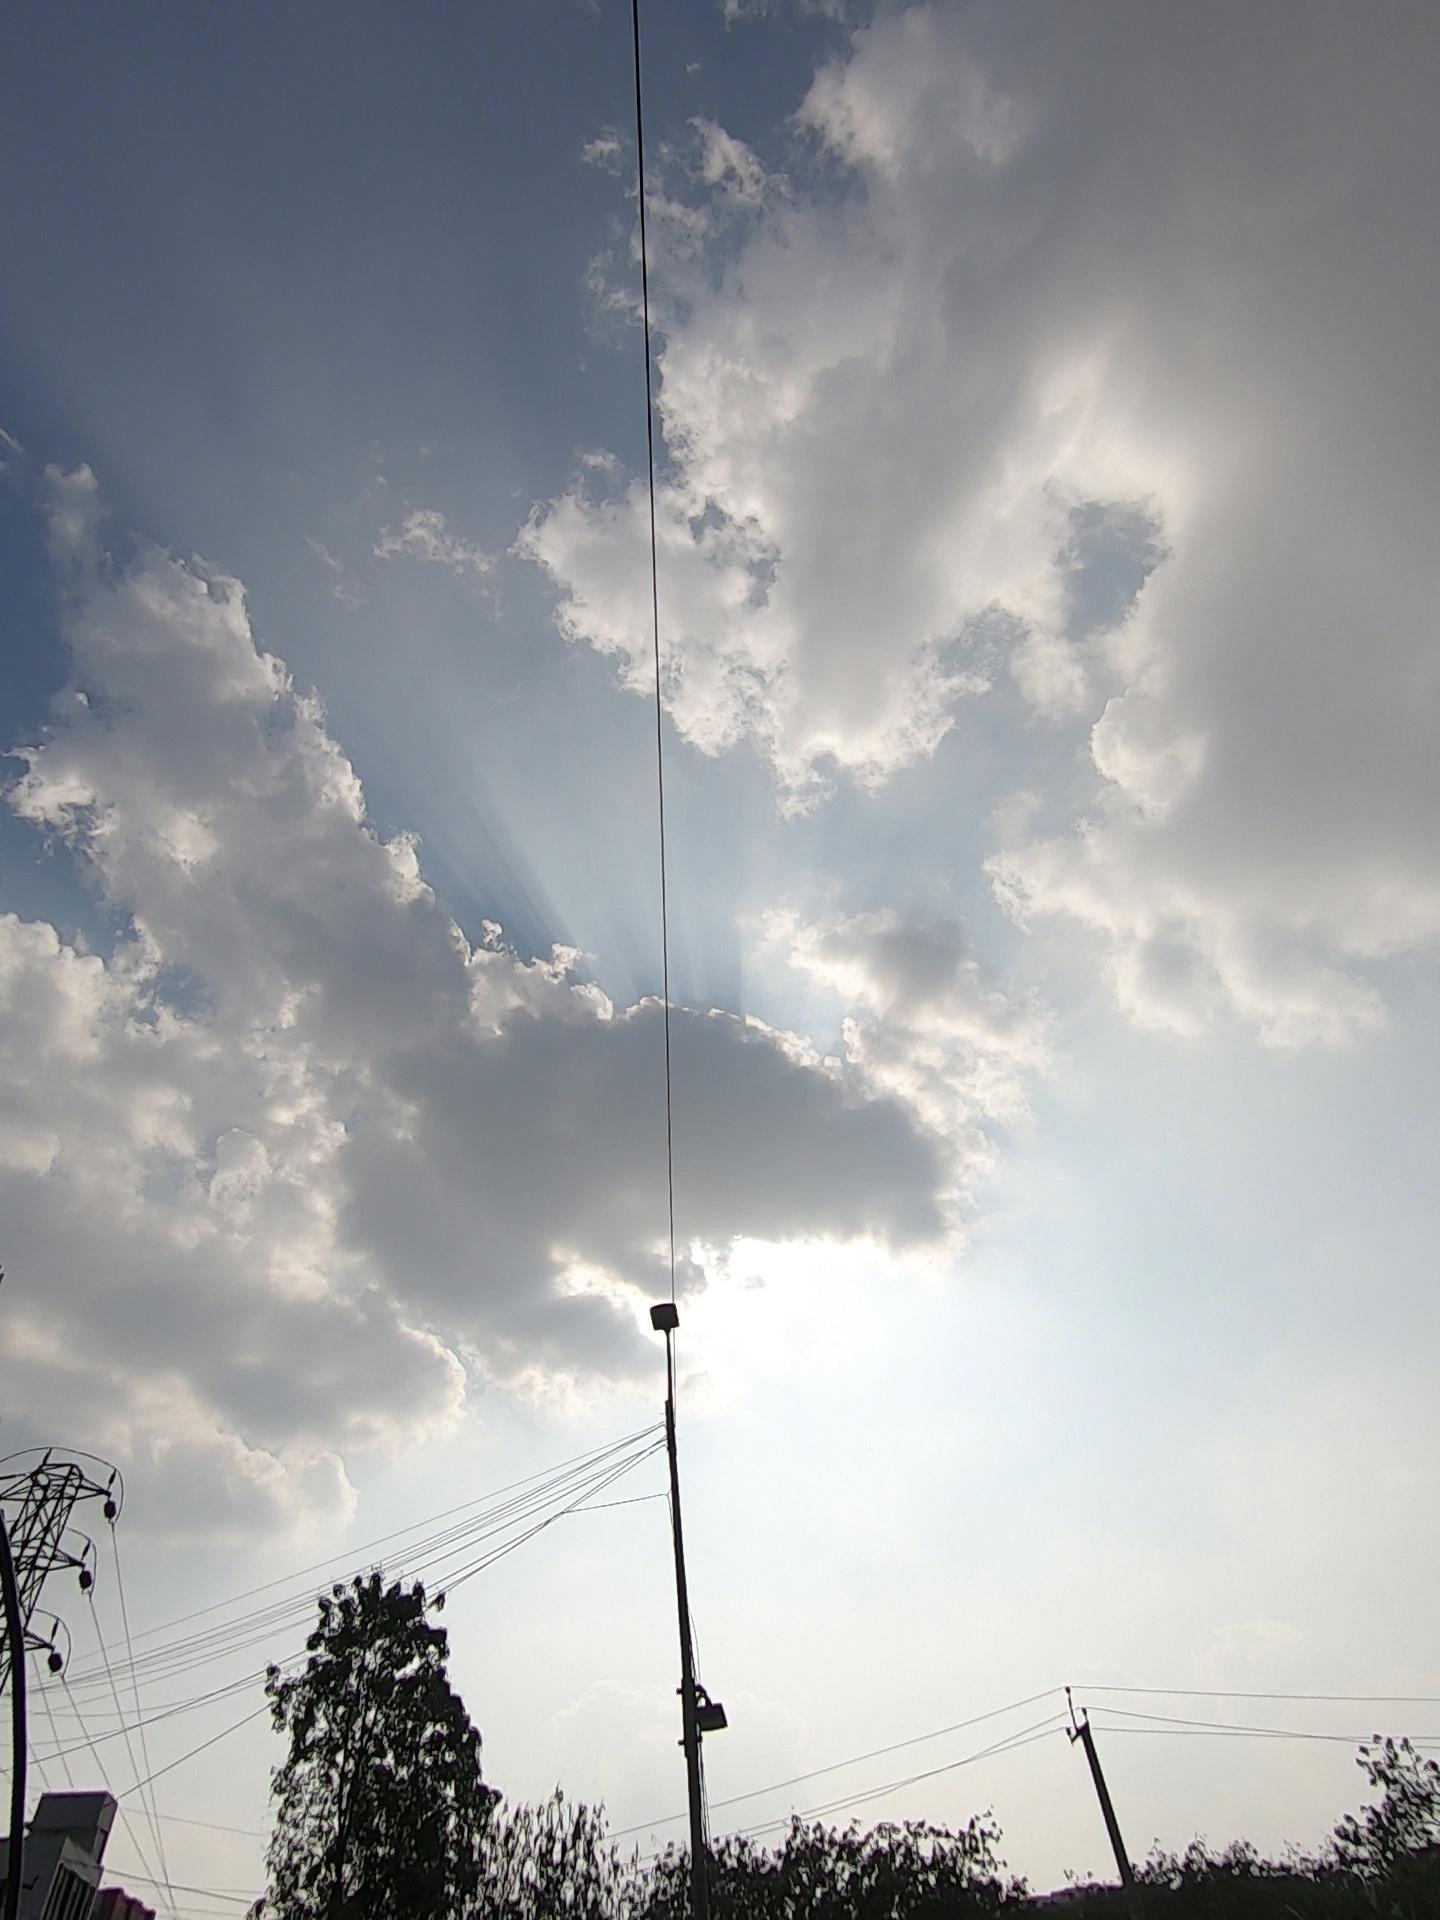off: (579, 1215, 791, 1772)
